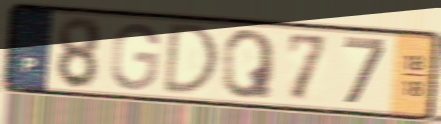7: (340, 34, 390, 109), (285, 31, 329, 104)
8: (54, 12, 105, 93)
D: (160, 21, 222, 97)
G: (108, 20, 162, 93)
Q: (219, 27, 279, 101)
